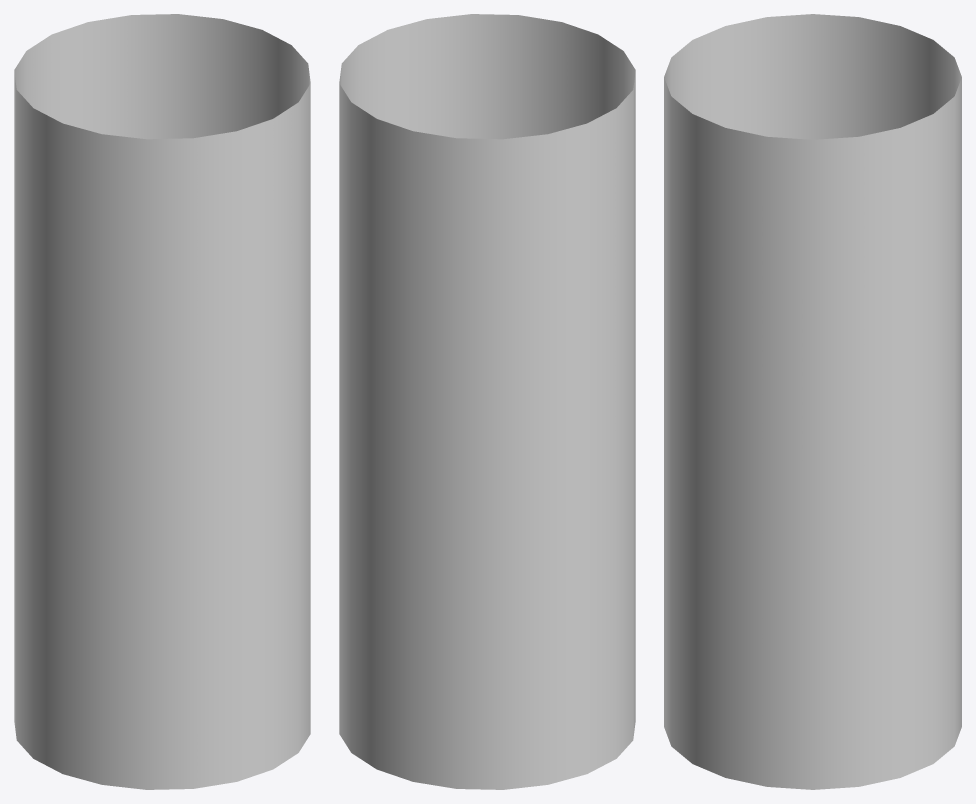
Rendered from SpawningBeam.fbx.
3 renders of one model, left to right at view 1: azimuth 30°, elevation 25°; view 2: azimuth 150°, elevation 25°; view 3: azimuth 270°, elevation 25°, orthographic.
Parts seen in each view (by area): view 1: pCylinder1; view 2: pCylinder1; view 3: pCylinder1.
Part boxes in pixels (left/top/right/bottom): pCylinder1: left=14, top=14, right=310, bottom=789; pCylinder1: left=339, top=14, right=635, bottom=789; pCylinder1: left=664, top=14, right=961, bottom=789.
Bounding box in the file's own units: 474 × 1143 × 474.
